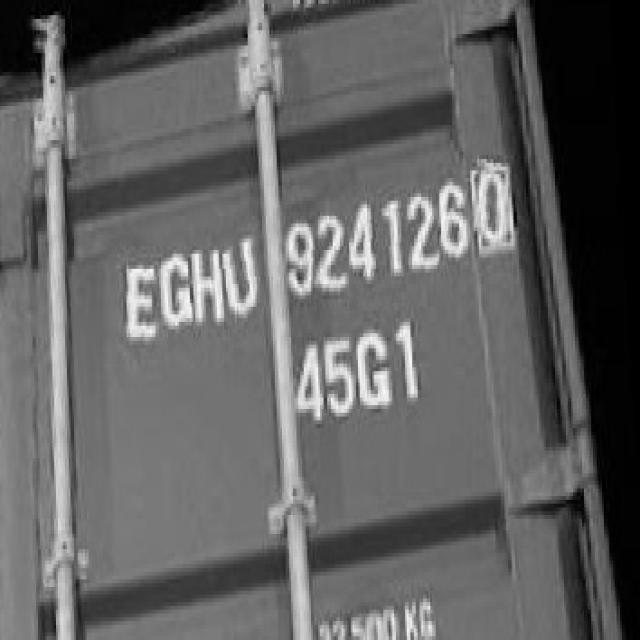dv: (471, 143, 518, 267)
owner: (120, 209, 258, 364)
serial: (276, 146, 468, 312)
size: (286, 316, 424, 433)
